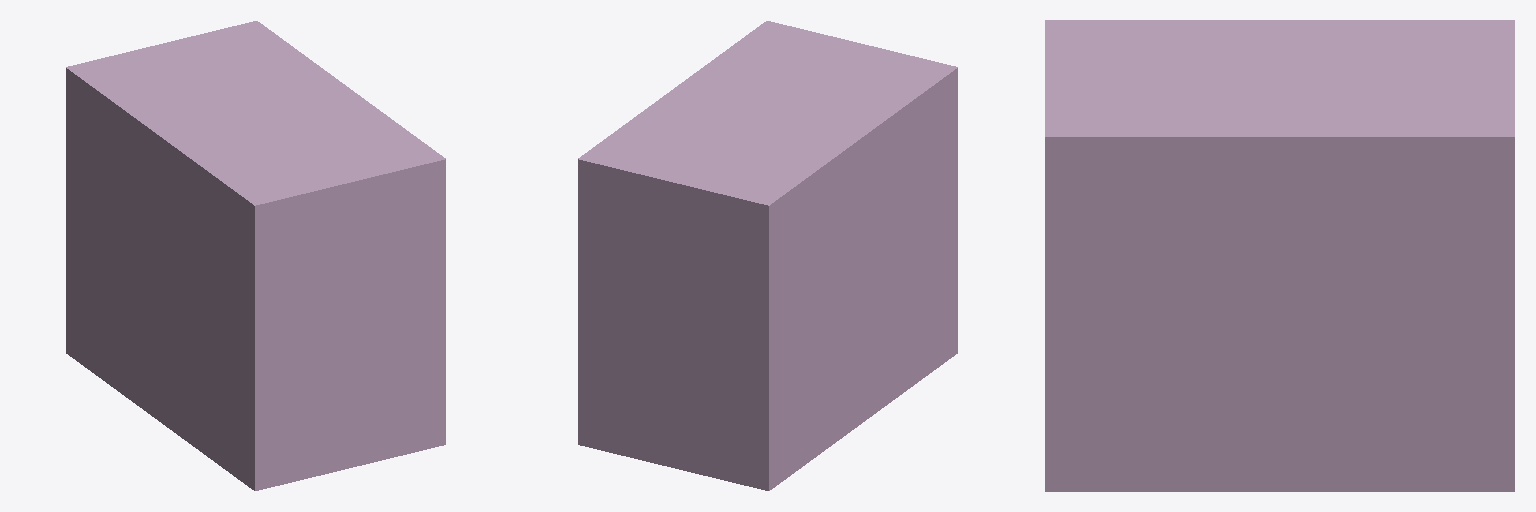
robot.urdf — box.urdf:
<?xml version="1.0" ?>
<robot name="box.urdf">
  <link name="baseLink">
    <contact>
      <lateral_friction value="1.0"/>
      <rolling_friction value="0.0001"/>
      <inertia_scaling value="3.0"/>
    </contact>
    <inertial>
      <origin rpy="0 0 0" xyz="0 0 0"/>
       <mass value="0.1"/>
       <inertia ixx="1" ixy="0" ixz="0" iyy="1" iyz="0" izz="1"/>
    </inertial>
    <visual>
      <origin rpy="0 0 0" xyz="0 0 0"/>
      <geometry>
        <!-- <box size="0.16 0.27399999999999997 0.228"/> -->
        <mesh filename="box/box.obj" scale="0.16 0.27399999999999997 0.228"/>
      </geometry>
      <material name="white">
        <color rgba="0.8 0.7 0.8 1"/>
      </material>
    </visual>
    <collision>
      <origin rpy="0 0 0" xyz="0 0 0"/>
      <geometry>
        <mesh filename="box/box.obj" scale="0.16 0.27399999999999997 0.228"/>
	 	    <!-- <box size="0.16 0.27399999999999997 0.228"/> -->
      </geometry>
    </collision>
  </link>
</robot>

--- Facts derived from the render (not from the file) ---
The picture shows the robot from 3 angles, left to right: view 1: azimuth 30°, elevation 25°; view 2: azimuth 150°, elevation 25°; view 3: azimuth 270°, elevation 25°; orthographic projection.
Model box.urdf with 1 links and 0 joints (none), rooted at baseLink, posed every joint at zero.
Visible links, largest first — view 1: baseLink; view 2: baseLink; view 3: baseLink.
Link boxes in pixels (bbox=[...]): baseLink: bbox=[66, 21, 445, 490]; baseLink: bbox=[578, 21, 957, 490]; baseLink: bbox=[1045, 20, 1514, 491].
Size in the robot's own frame: 0.16 by 0.274 by 0.228 metres.
Meshes: 1 distinct files referenced, 1 mesh visuals loaded (1 OBJ).
